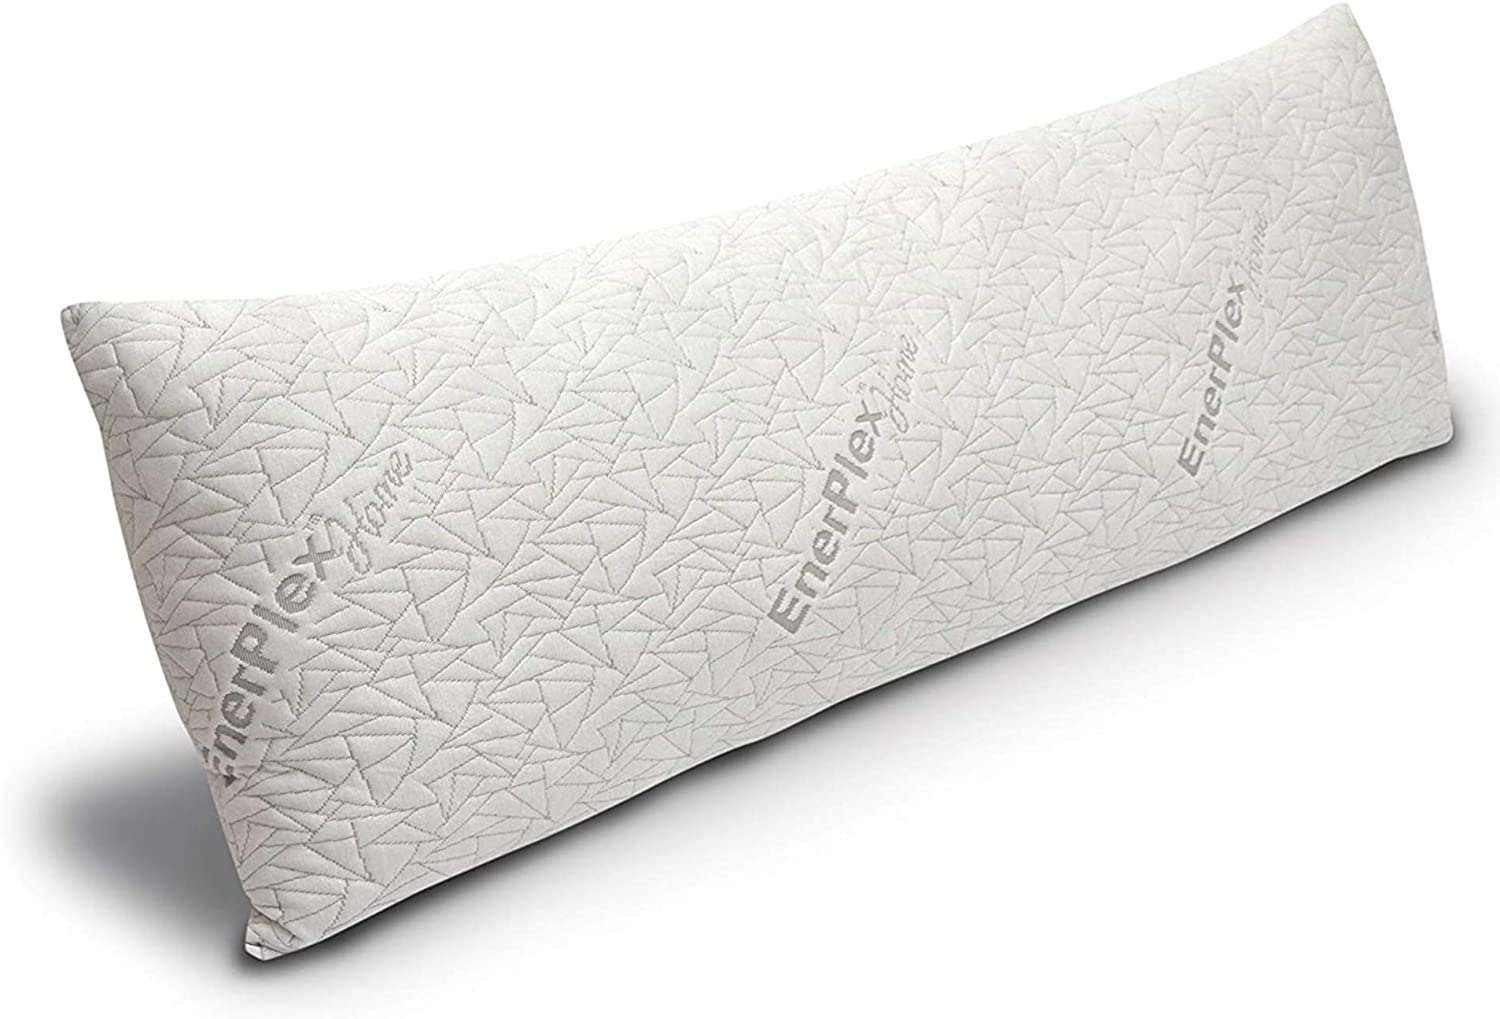bantal: (49, 13, 1452, 871)
